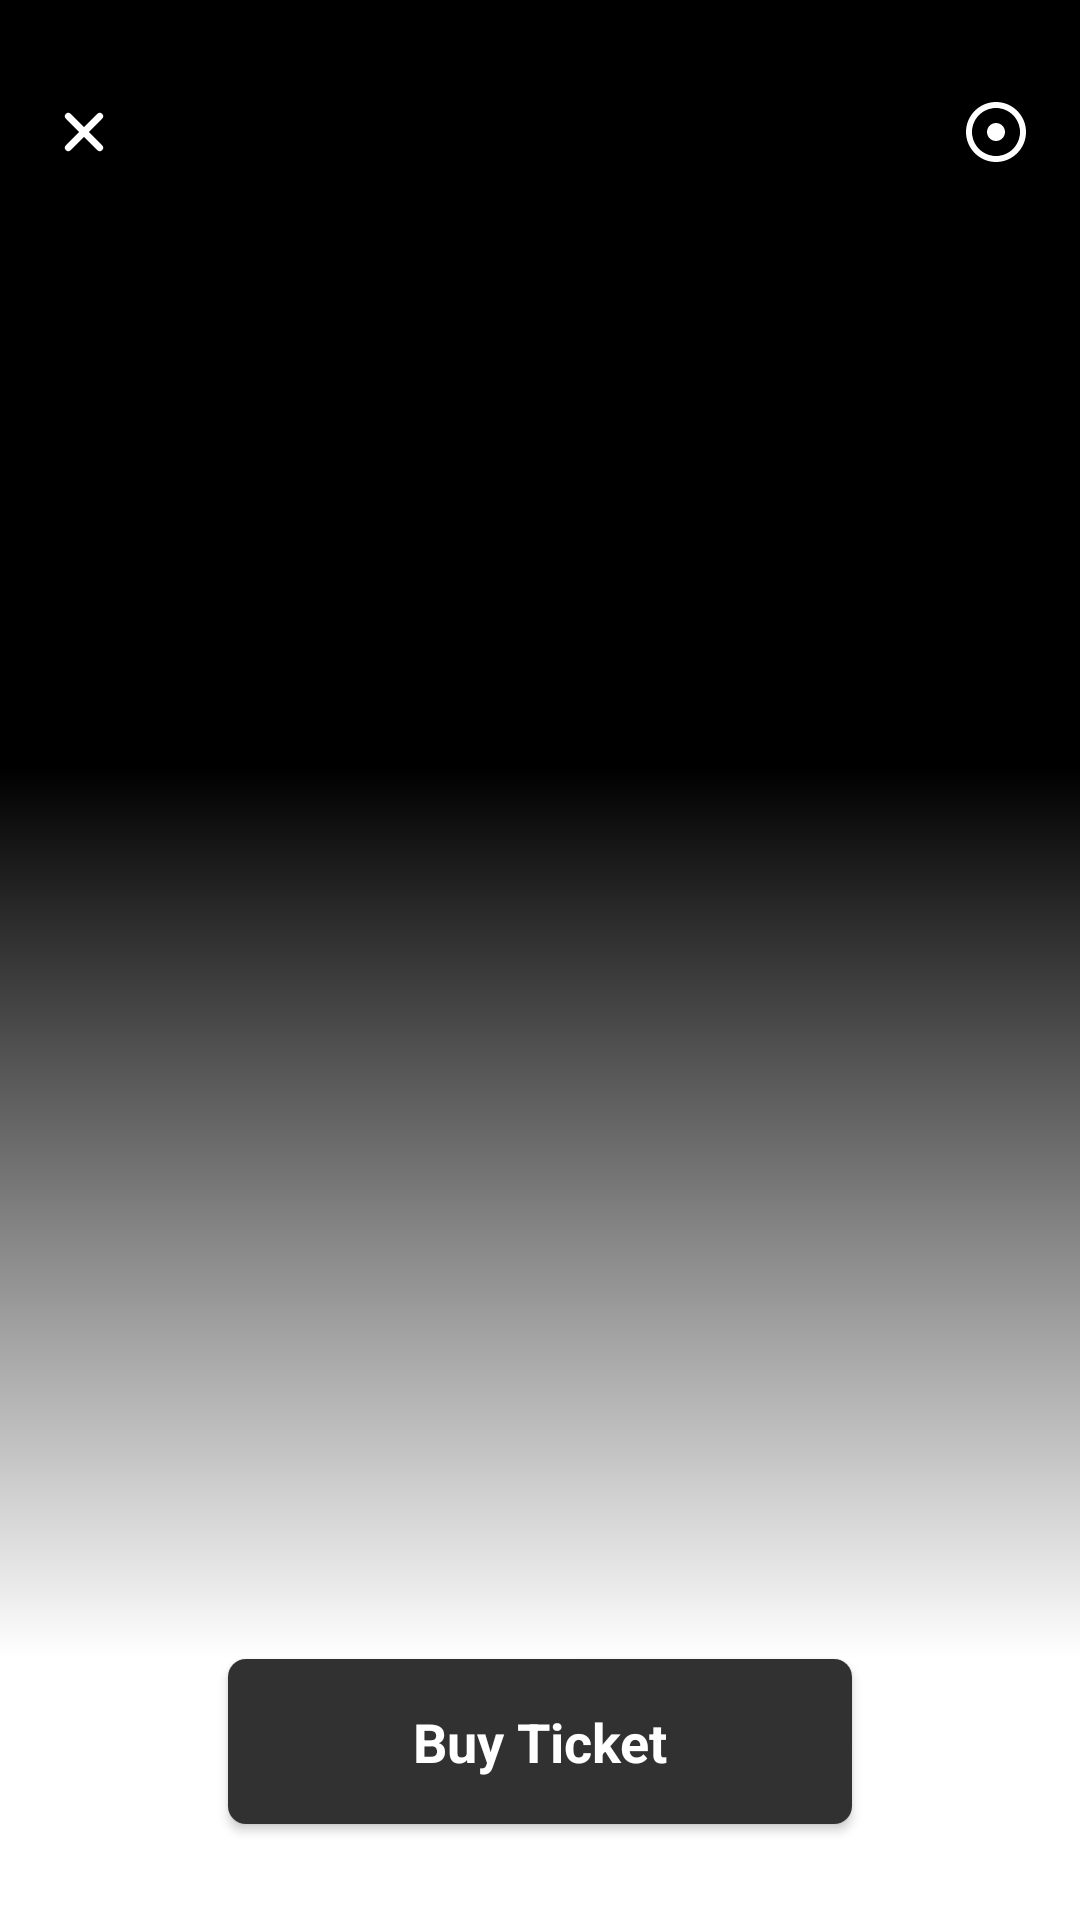

Named icons in this screenshot (1080x1920) and their centers, point (x, y):
Adjust button: point (996, 132)
Close button: point (84, 132)
